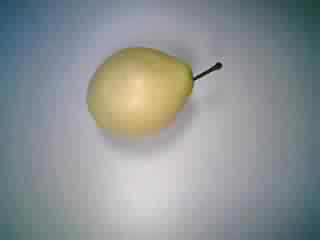pear: (76, 37, 229, 144)
